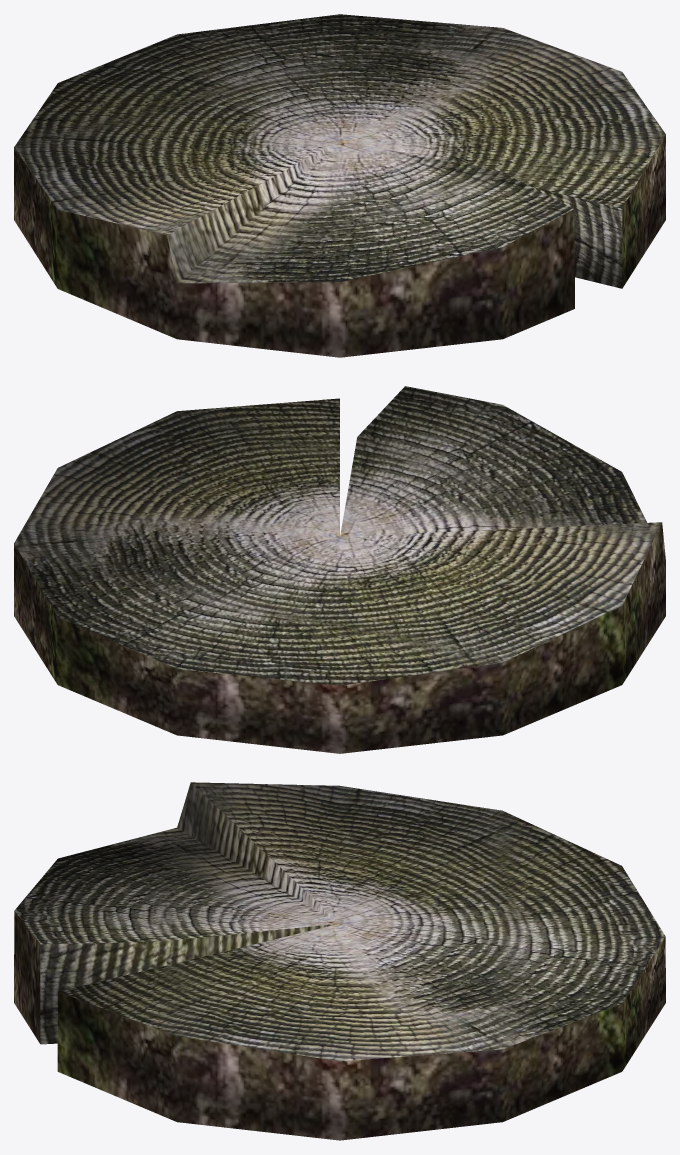
The model's file is NW_NATURE_WOODPIECE_01.glb.
The picture shows the model from 3 angles, top to bottom: view 1: azimuth 30°, elevation 25°; view 2: azimuth 150°, elevation 25°; view 3: azimuth 270°, elevation 25°; orthographic projection.
Visible parts, largest first — view 1: Mesh; view 2: Mesh; view 3: Mesh.
Part boxes in pixels (<box>): Mesh: <box>14,14,665,357</box>; Mesh: <box>14,386,665,753</box>; Mesh: <box>14,782,665,1140</box>.
Bounding box in the file's own units: 0.6559 × 0.1108 × 0.6559.
Materials: 2 (2 with a texture image).
